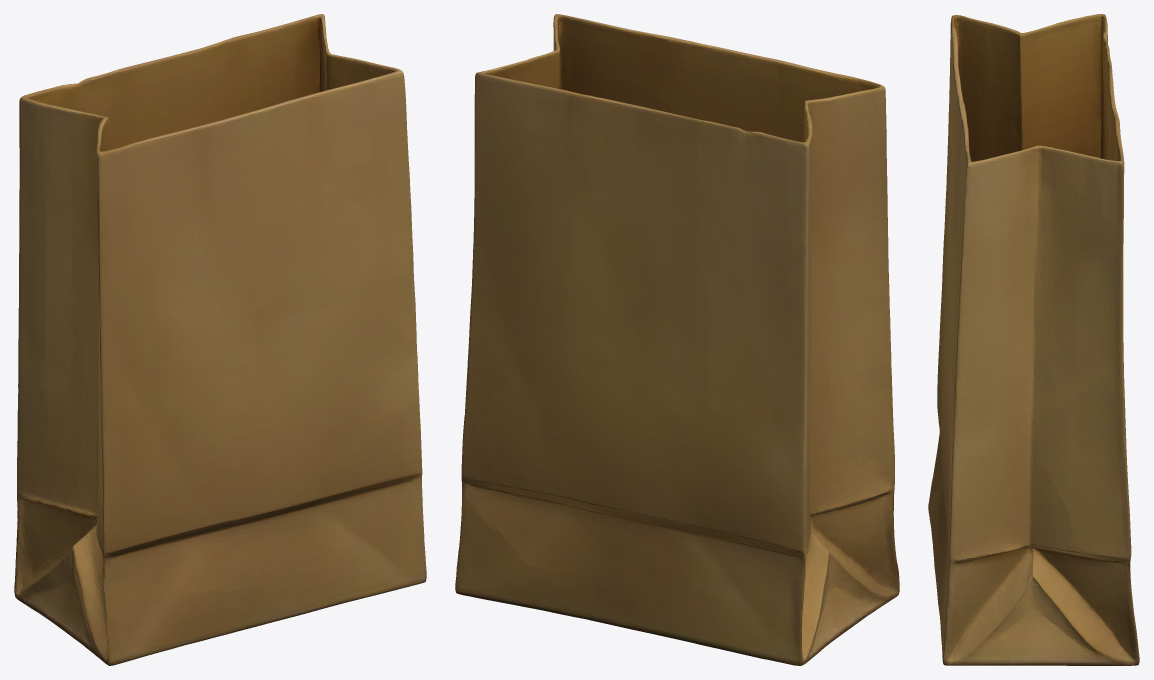
The model's file is empty grocery bag.glb.
The picture shows the model from 3 angles, left to right: view 1: azimuth 30°, elevation 25°; view 2: azimuth 150°, elevation 25°; view 3: azimuth 270°, elevation 25°; orthographic projection. The views are drawn at different scales.
Parts seen in each view (by area): view 1: world; view 2: world; view 3: world.
Boxes of the visible parts, x1=… form: world: x1=14, y1=14, x2=426, y2=665; world: x1=455, y1=14, x2=899, y2=665; world: x1=928, y1=14, x2=1139, y2=665.
Size of the model in its own units: 0.6759 by 0.9998 by 0.3847.
Materials: 1 (1 with a texture image).
